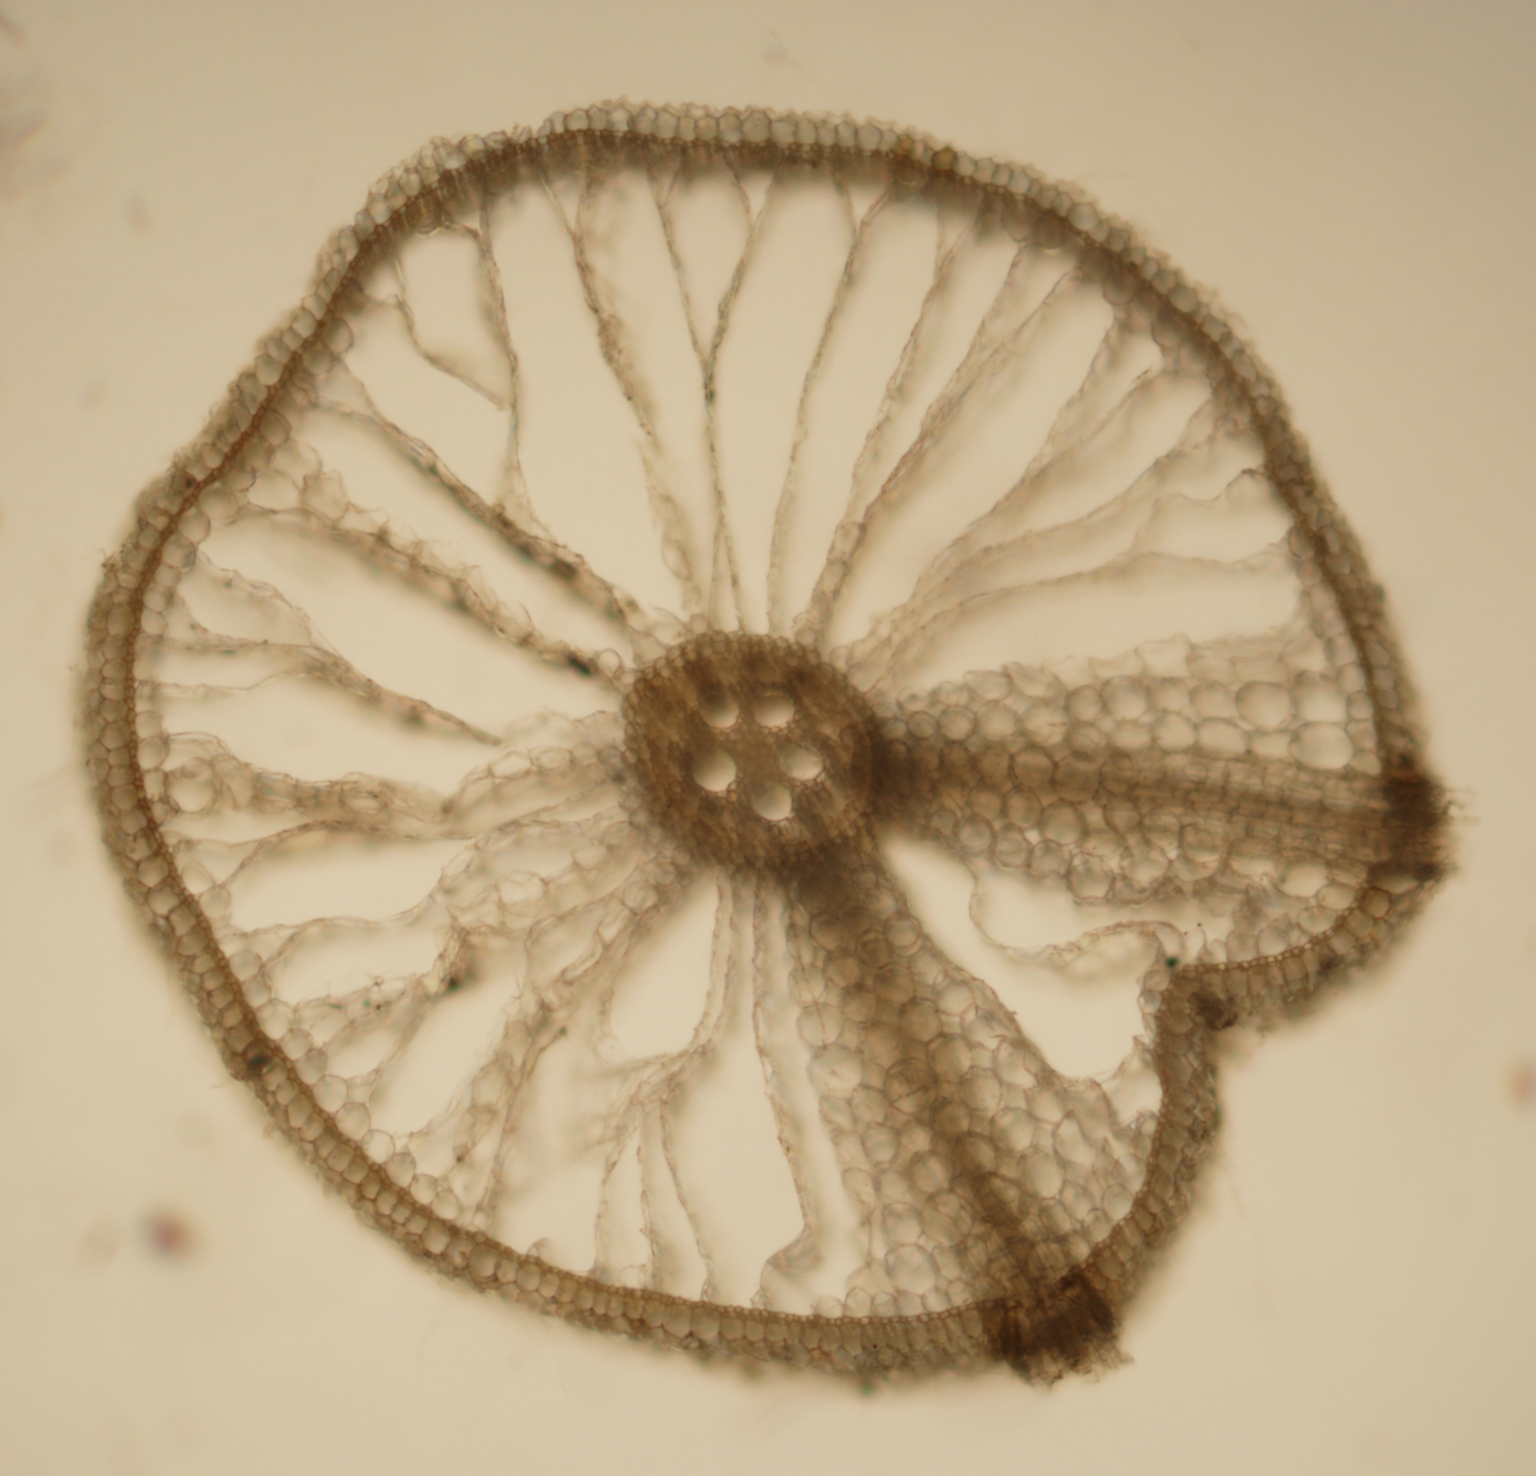lm: (690, 746, 736, 791), (778, 739, 823, 781), (749, 687, 795, 727), (749, 781, 793, 820), (698, 691, 741, 728)
